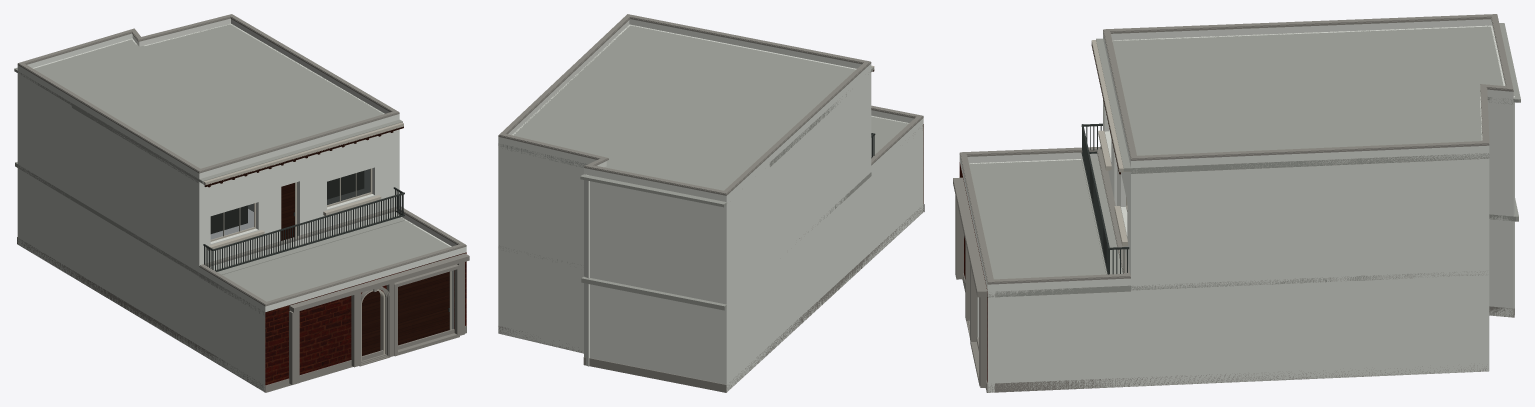
The model's file is building.glb.
3 renders of one model, left to right at view 1: azimuth 30°, elevation 25°; view 2: azimuth 150°, elevation 25°; view 3: azimuth 270°, elevation 25°, orthographic. The views are drawn at different scales.
Visible parts, largest first — view 1: house:0/edge0/z0/house:0/edge0/z0/wall_0_0, roof/house:0/roof_slab#0001, house:0/edge1/z0/house:0/edge1/z0/wall_0_0/core0, roof/garage:0/roof_slab#0001, garage:0/edge0/z0/garage:0/edge0/z0/wall_0_0, roof/house:0/parapet#0001, roof/house:0/parapet_cap#0002, roof/garage:0/parapet#0001, garage:0/edge2/z0/garage:0/edge2/z0/coating_0_0_0/curve0, garage:0/edge2/z0/opening_u4.54_v0.04/door_leaf#0001, roof/garage:0/parapet_cap#0002, garage:0/edge1/z0/garage:0/edge1/z0/coating_0_0_0 (+30 smaller); view 2: roof/house:0/roof_slab#0001, house:0/edge0/z0/house:0/edge0/z0/wall_0_0, house:0/edge5/z0/house:0/edge5/z0/wall_0_0/core0, house:0/edge3/z0/house:0/edge3/z0/wall_0_0, roof/house:0/parapet#0001, garage:0/edge0/z0/garage:0/edge0/z0/wall_0_0, roof/house:0/parapet_cap#0002, roof/house:0/parapet_cap#0001, house:0/edge5/z0/plinth#0001, house:0/edge4/z0/house:0/edge4/z0/wall_0_0, house:0/edge5/z0/floor_slab#0001, house:0/edge0/z0/plinth#0001 (+4 smaller); view 3: house:0/edge2/z0/house:0/edge2/z0/wall_0_0, roof/house:0/roof_slab#0001, roof/garage:0/roof_slab#0001, garage:0/edge3/z0/garage:0/edge3/z0/wall_0_0/core0, roof/house:0/parapet#0001, house:0/edge4/z0/house:0/edge4/z0/wall_0_0, roof/house:0/parapet_cap#0002, roof/house:0/parapet_cap#0001, roof/garage:0/parapet_cap#0002, roof/garage:0/parapet#0001, house:0/edge1/z0/house:0/edge1/z0/wall_0_0/core0, house:0/edge1/z0/proj_balcony_02/balcony_slab#0001 (+17 smaller).
Boxes of the visible parts, <box> form: house:0/edge0/z0/house:0/edge0/z0/wall_0_0: <box>17,71,199,352</box>; roof/house:0/roof_slab#0001: <box>33,24,383,183</box>; house:0/edge1/z0/house:0/edge1/z0/wall_0_0/core0: <box>199,131,394,265</box>; roof/garage:0/roof_slab#0001: <box>199,217,449,315</box>; garage:0/edge0/z0/garage:0/edge0/z0/wall_0_0: <box>199,274,265,391</box>; roof/house:0/parapet#0001: <box>17,18,399,179</box>; roof/house:0/parapet_cap#0002: <box>18,14,398,171</box>; roof/garage:0/parapet#0001: <box>199,211,466,311</box>; garage:0/edge2/z0/garage:0/edge2/z0/coating_0_0_0/curve0: <box>288,304,351,378</box>; garage:0/edge2/z0/opening_u4.54_v0.04/door_leaf#0001: <box>398,271,449,345</box>; roof/garage:0/parapet_cap#0002: <box>200,206,465,304</box>; garage:0/edge1/z0/garage:0/edge1/z0/coating_0_0_0: <box>265,305,288,385</box>; roof/house:0/roof_slab#0001: <box>502,25,855,190</box>; house:0/edge0/z0/house:0/edge0/z0/wall_0_0: <box>721,70,871,392</box>; house:0/edge5/z0/house:0/edge5/z0/wall_0_0/core0: <box>590,181,720,383</box>; house:0/edge3/z0/house:0/edge3/z0/wall_0_0: <box>498,143,587,353</box>; roof/house:0/parapet#0001: <box>498,19,871,201</box>; garage:0/edge0/z0/garage:0/edge0/z0/wall_0_0: <box>871,124,923,259</box>; roof/house:0/parapet_cap#0002: <box>499,14,870,193</box>; roof/house:0/parapet_cap#0001: <box>498,17,871,195</box>; house:0/edge5/z0/plinth#0001: <box>583,357,726,392</box>; house:0/edge4/z0/house:0/edge4/z0/wall_0_0: <box>584,174,589,366</box>; house:0/edge5/z0/floor_slab#0001: <box>581,277,726,310</box>; house:0/edge0/z0/plinth#0001: <box>727,253,871,390</box>; house:0/edge2/z0/house:0/edge2/z0/wall_0_0: <box>1130,153,1489,386</box>; roof/house:0/roof_slab#0001: <box>1112,25,1512,173</box>; roof/garage:0/roof_slab#0001: <box>969,159,1130,297</box>; garage:0/edge3/z0/garage:0/edge3/z0/wall_0_0/core0: <box>988,287,1130,391</box>; roof/house:0/parapet#0001: <box>1103,19,1513,168</box>; house:0/edge4/z0/house:0/edge4/z0/wall_0_0: <box>1487,96,1514,317</box>; roof/house:0/parapet_cap#0002: <box>1103,14,1512,159</box>; roof/house:0/parapet_cap#0001: <box>1103,14,1513,160</box>; roof/garage:0/parapet_cap#0002: <box>960,146,1130,282</box>; roof/garage:0/parapet#0001: <box>959,152,1130,291</box>; house:0/edge1/z0/house:0/edge1/z0/wall_0_0/core0: <box>1103,99,1130,272</box>; house:0/edge1/z0/proj_balcony_02/balcony_slab#0001: <box>1081,158,1122,274</box>.
Size of the model in its own units: 9.96 by 6.99 by 15.78.
Materials: 9 (2 with a texture image).
